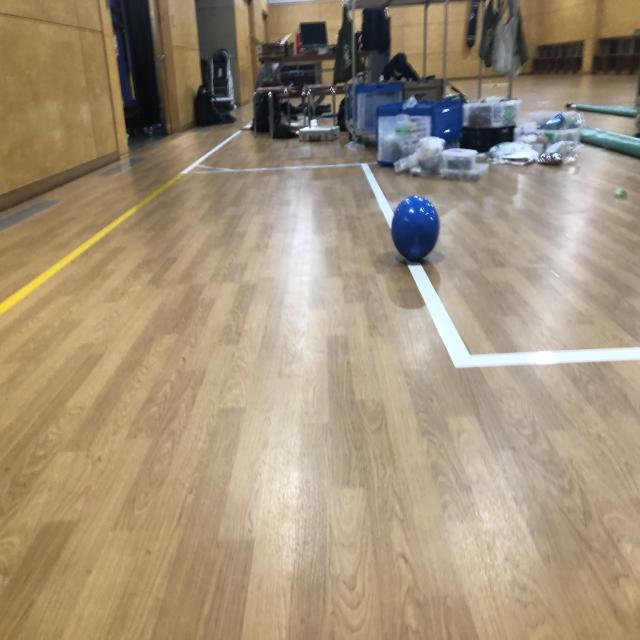blue_ball: (392, 196, 437, 257)
